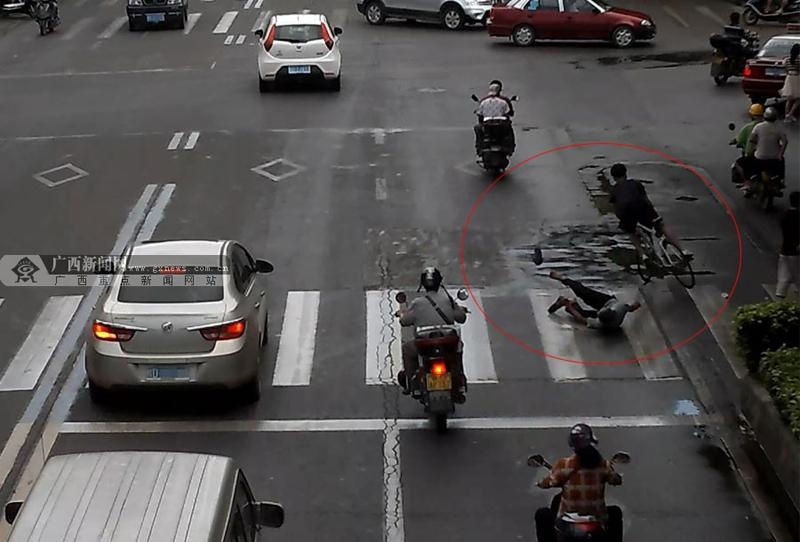falling: (542, 264, 645, 338)
